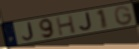1: (96, 8, 109, 30)
9: (37, 17, 56, 39)
G: (113, 5, 134, 26)
H: (55, 14, 78, 37)
J: (79, 12, 94, 32), (22, 21, 36, 41)
